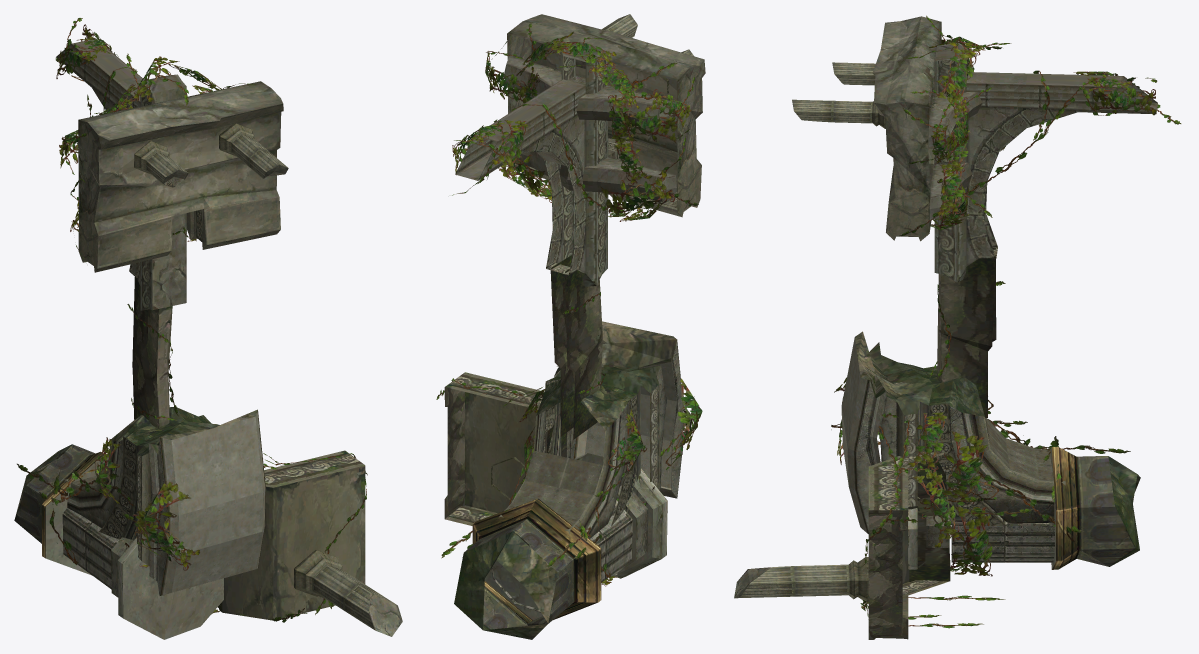
File: juqing_fuben_283_piaofu_03.obj
3 renders of one model, left to right at view 1: azimuth 30°, elevation 25°; view 2: azimuth 150°, elevation 25°; view 3: azimuth 270°, elevation 25°, orthographic. The views are drawn at different scales.
Parts seen in each view (by area): view 1: juqing_fuben_283_piaofu_03; view 2: juqing_fuben_283_piaofu_03; view 3: juqing_fuben_283_piaofu_03.
Boxes of the visible parts, left/top/right/bottom form: juqing_fuben_283_piaofu_03: left=14, top=18, right=402, bottom=639; juqing_fuben_283_piaofu_03: left=436, top=14, right=705, bottom=639; juqing_fuben_283_piaofu_03: left=734, top=15, right=1181, bottom=639.
Bounding box in the file's own units: 842 × 1645 × 1246.
Materials: 8 (8 with a texture image).
